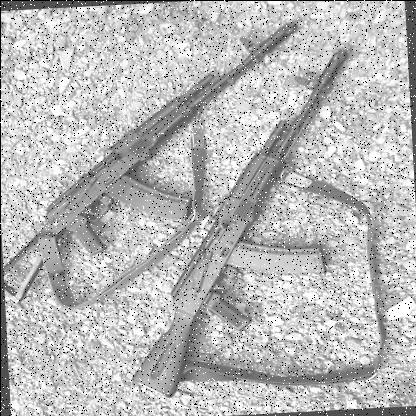rifle: (113, 45, 376, 400), (0, 25, 315, 309)
